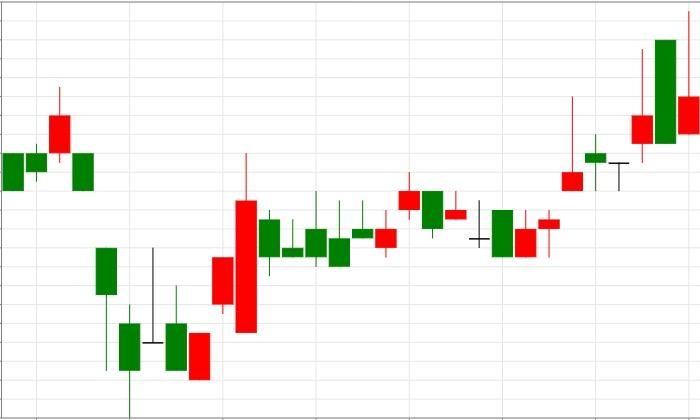shooting_star_fall: (516, 49, 653, 258)
